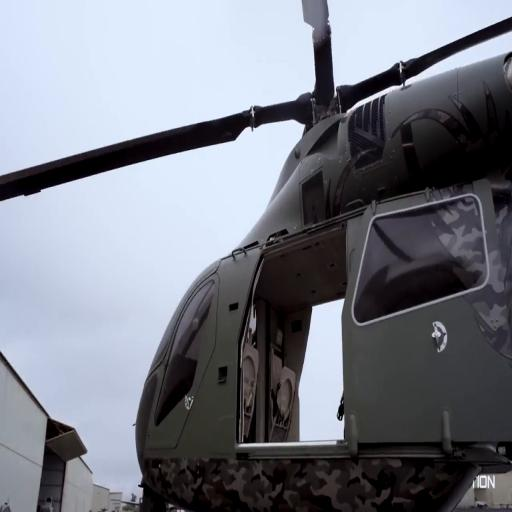helicopter: (78, 42, 512, 504)
